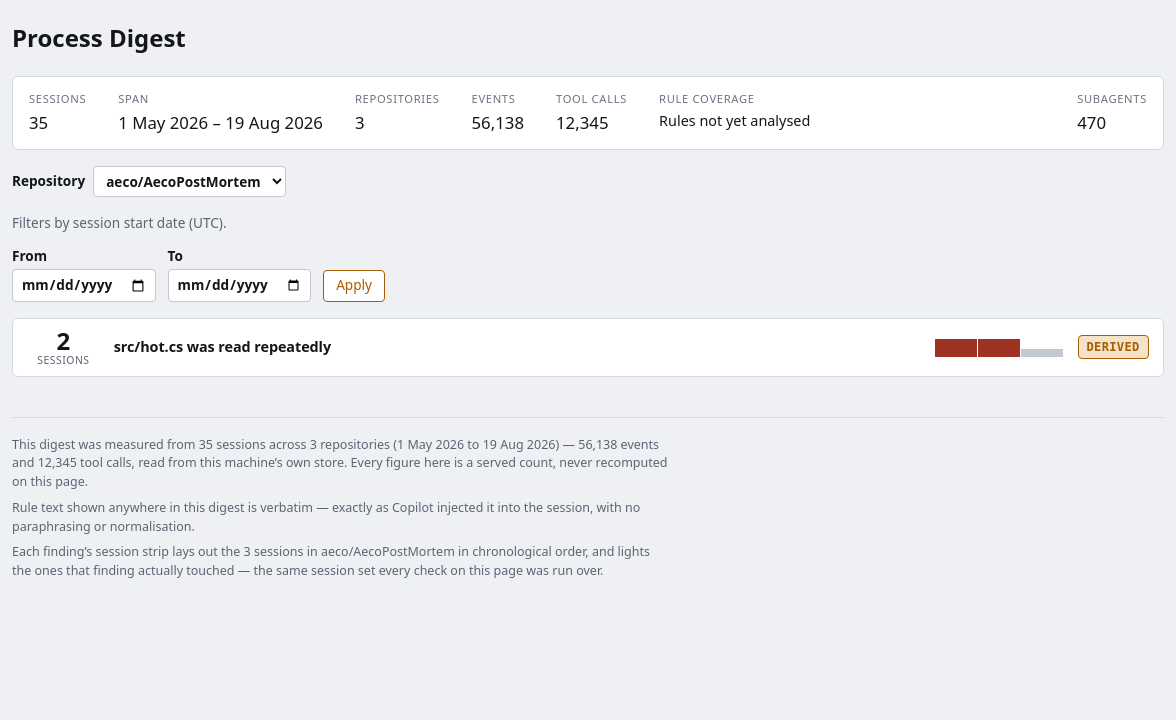
Test: DigestPage › keeps the newly selected repository shown while its digest is still loading
The width and height of the screenshot is (1176, 720).
Expected: the text "src/hot.cs was read repeatedly" is shown, 114,337 -> 331,356
Select "aeco/AecoLedger" in the dropdown labelled "Repository" at (190, 182), box 93,166 -> 286,197
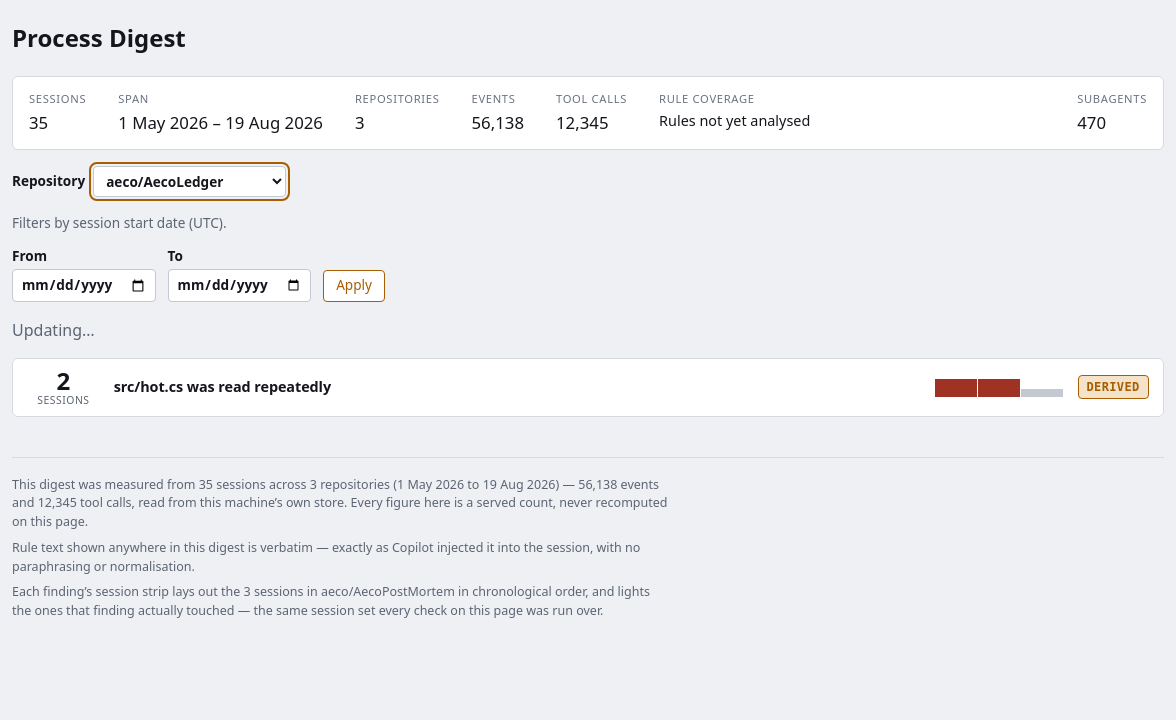
Now the message shows "Updating", box 12,318 -> 95,340
